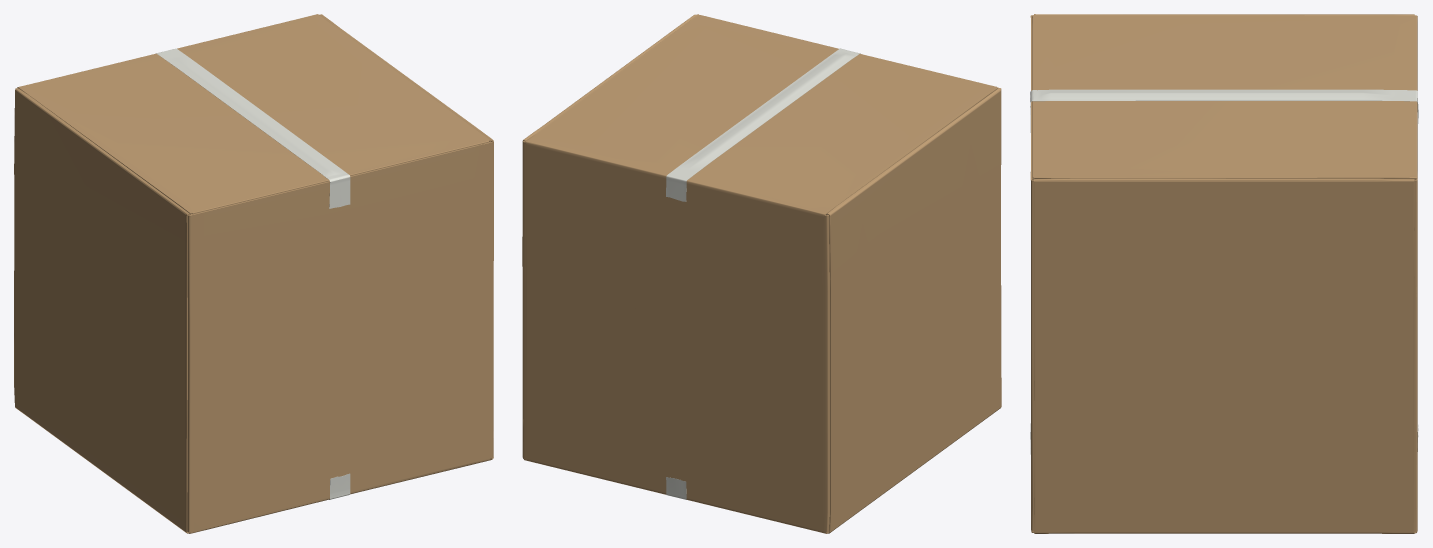
File: box_cube_white_b05.glb
The picture shows the model from 3 angles, left to right: view 1: azimuth 30°, elevation 25°; view 2: azimuth 150°, elevation 25°; view 3: azimuth 270°, elevation 25°; orthographic projection. The views are drawn at different scales.
Bounding box in the file's own units: 0.3155 × 0.3148 × 0.31.
